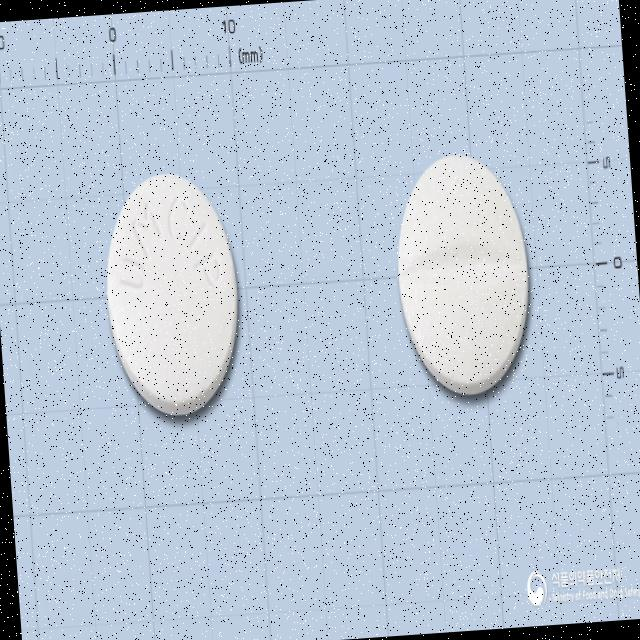Ciprofloxacin HCl Tab- Unimed: (95, 162, 252, 426), (386, 144, 542, 406)
